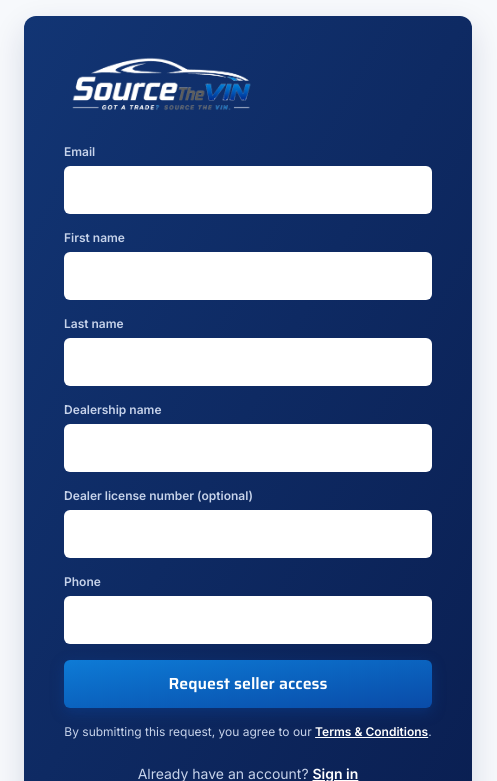
Scenario: App › lists missing required fields without submitting the request
The image size is (497, 781).
Expected: the picture with alt text "SourceTheVIN" is shown, x1=64 y1=56 x2=259 y2=112
Click the button "Request seller access": click(248, 684) x1=64 y1=660 x2=432 y2=708
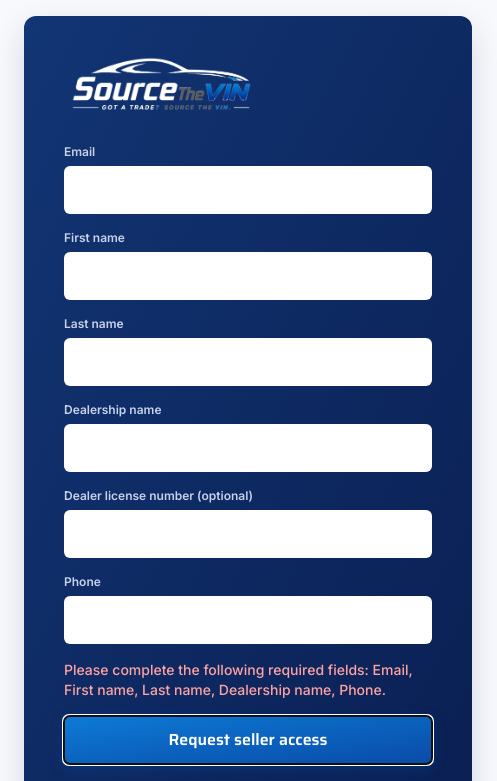
Expected: the message shows "Please complete the following required fields: Email, First name, Last name, Dealership name, Phone.", x1=64 y1=661 x2=413 y2=698
